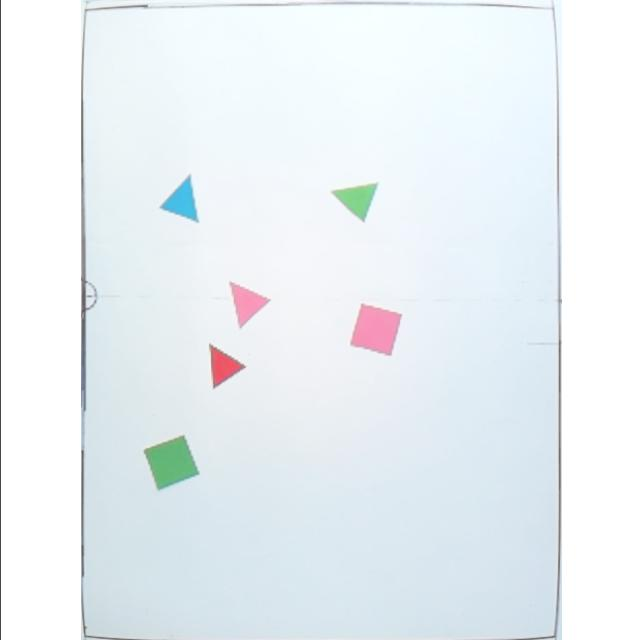blueTriangle: (157, 172, 201, 224)
greenSquare: (141, 433, 197, 492)
greenTriangle: (328, 180, 379, 224)
pinkSquare: (348, 302, 400, 356)
pinkTriangle: (226, 280, 270, 330)
redTriangle: (205, 344, 243, 391)
